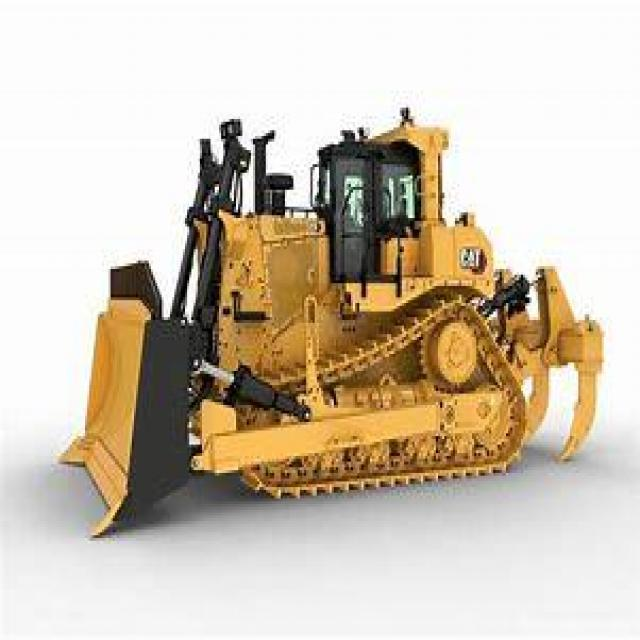Bulldozer: (76, 99, 604, 524)
